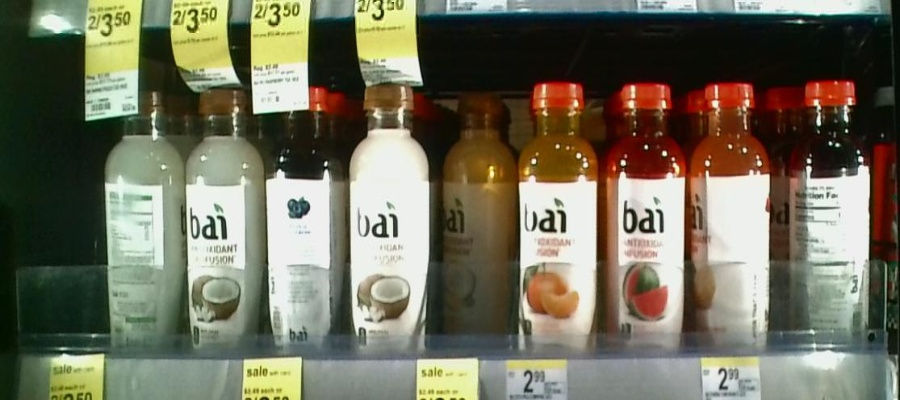bottle: (513, 69, 607, 355), (776, 71, 874, 339), (340, 77, 435, 352), (689, 71, 777, 349), (607, 69, 689, 357), (95, 94, 186, 351), (184, 82, 263, 355), (267, 80, 341, 348), (438, 96, 513, 353)
